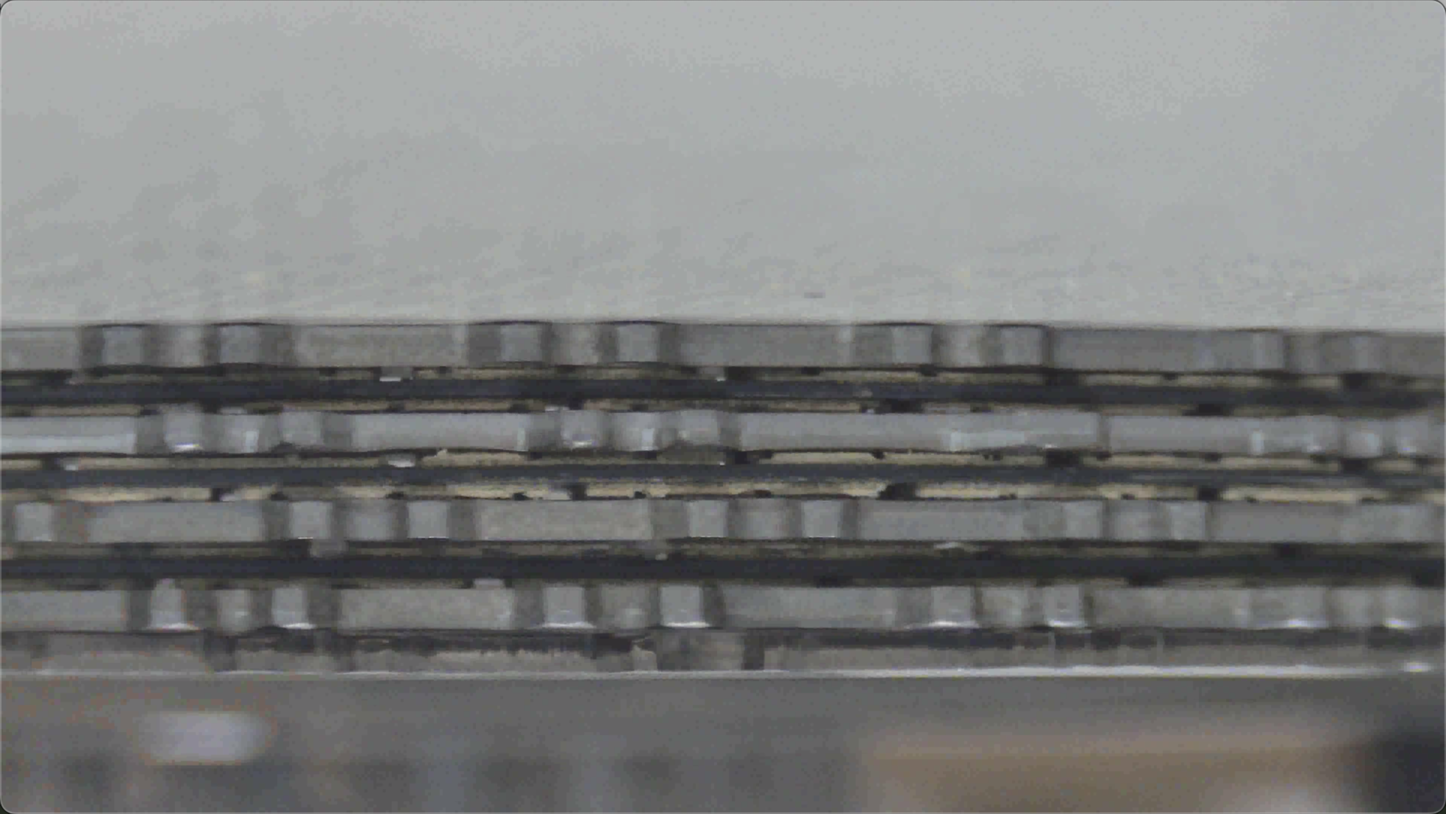Black metal plate: (47, 522, 1446, 774), (0, 322, 1445, 376)
shiney metal plate: (53, 51, 1368, 711), (0, 6, 1373, 417), (0, 176, 1419, 411)
spacer: (15, 93, 1377, 580), (0, 404, 1445, 437), (0, 232, 1445, 260)
